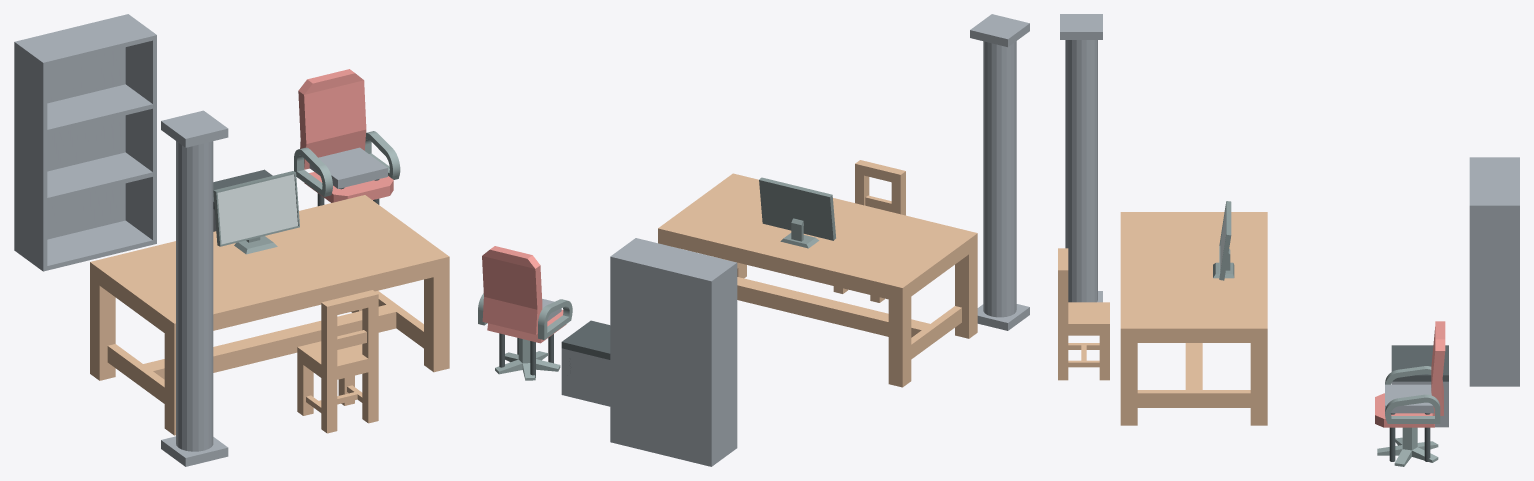
The picture shows the model from 3 angles, left to right: view 1: azimuth 30°, elevation 25°; view 2: azimuth 150°, elevation 25°; view 3: azimuth 270°, elevation 25°; orthographic projection. The views are drawn at different scales.
Visible parts, largest first — view 1: table_green__table(Clone), column_cyan__column_cyan shaft, shelf_orange__shelf_orange back, deskchair_black__chair, chair_cyan__chair(Clone), shelf_orange__shelf_orange side_l, monitor_gray__computerScreen(Clone), shelf_orange__shelf_orange side_r, shelf_orange__shelf_orange board3, shelf_orange__shelf_orange board1, shelf_orange__shelf_orange board2, shelf_orange__shelf_orange board0 (+4 smaller); view 2: table_green__table(Clone), shelf_orange__shelf_orange back, column_cyan__column_cyan shaft, deskchair_black__chair, shelf_orange__shelf_orange side_l, monitor_gray__computerScreen(Clone), crate_red__crate_red shell, shelf_orange__shelf_orange board3, chair_cyan__chair(Clone), column_cyan__column_cyan capital, crate_red__crate_red lid, deskchair_black__chairDesk(Clone) (+2 smaller); view 3: table_green__table(Clone), shelf_orange__shelf_orange side_r, column_cyan__column_cyan shaft, chair_cyan__chair(Clone), deskchair_black__chair, shelf_orange__shelf_orange board3, crate_red__crate_red lid, column_cyan__column_cyan capital, deskchair_black__chairDesk(Clone), stool_purple__stool_purple seat, monitor_gray__computerScreen(Clone), crate_red__crate_red shell.
Part boxes in pixels (x1,y1,x2,y2): table_green__table(Clone): (90, 195, 449, 435); column_cyan__column_cyan shaft: (176, 141, 213, 451); shelf_orange__shelf_orange back: (19, 15, 125, 239); deskchair_black__chair: (294, 69, 400, 202); chair_cyan__chair(Clone): (297, 290, 378, 433); shelf_orange__shelf_orange side_l: (14, 41, 47, 271); monitor_gray__computerScreen(Clone): (213, 171, 299, 254); shelf_orange__shelf_orange side_r: (124, 14, 156, 244); shelf_orange__shelf_orange board3: (21, 16, 152, 66); shelf_orange__shelf_orange board1: (47, 152, 152, 202); shelf_orange__shelf_orange board2: (47, 84, 152, 134); shelf_orange__shelf_orange board0: (47, 220, 152, 270); table_green__table(Clone): (658, 173, 977, 387); shelf_orange__shelf_orange back: (614, 256, 708, 465); column_cyan__column_cyan shaft: (983, 41, 1016, 317); deskchair_black__chair: (478, 246, 572, 343); shelf_orange__shelf_orange side_l: (707, 261, 737, 466); monitor_gray__computerScreen(Clone): (759, 177, 835, 248); crate_red__crate_red shell: (561, 348, 610, 406); shelf_orange__shelf_orange board3: (616, 239, 732, 279); chair_cyan__chair(Clone): (833, 160, 905, 302); column_cyan__column_cyan capital: (970, 14, 1029, 47); crate_red__crate_red lid: (561, 320, 610, 359); deskchair_black__chairDesk(Clone): (495, 338, 560, 380); table_green__table(Clone): (1120, 212, 1267, 425); shelf_orange__shelf_orange side_r: (1469, 203, 1519, 386); column_cyan__column_cyan shaft: (1065, 40, 1097, 302); chair_cyan__chair(Clone): (1058, 248, 1109, 380); deskchair_black__chair: (1375, 321, 1445, 427); shelf_orange__shelf_orange board3: (1469, 159, 1516, 203); crate_red__crate_red lid: (1391, 345, 1448, 381); column_cyan__column_cyan capital: (1060, 14, 1102, 39); deskchair_black__chairDesk(Clone): (1377, 427, 1438, 466); stool_purple__stool_purple seat: (1385, 384, 1434, 413); monitor_gray__computerScreen(Clone): (1213, 201, 1234, 280); crate_red__crate_red shell: (1391, 381, 1448, 427).
Size of the model in its own units: 2.82 by 2.2 by 3.23.
